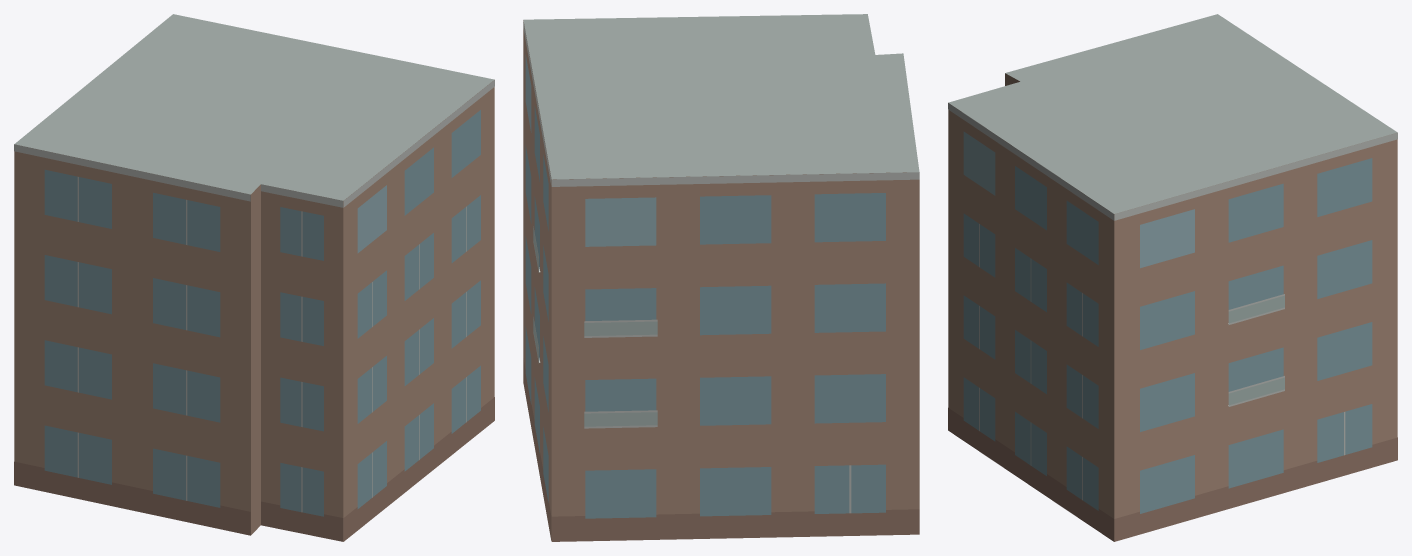
File: survey-upis-32914444.glb
The picture shows the model from 3 angles, left to right: view 1: azimuth 30°, elevation 25°; view 2: azimuth 150°, elevation 25°; view 3: azimuth 270°, elevation 25°; orthographic projection. The views are drawn at different scales.
Visible parts, largest first — view 1: survey-upis-32914444.tmp; view 2: survey-upis-32914444.tmp; view 3: survey-upis-32914444.tmp.
Part boxes in pixels (x1,y1,x2,y2): survey-upis-32914444.tmp: [14, 14, 494, 541]; survey-upis-32914444.tmp: [523, 14, 919, 541]; survey-upis-32914444.tmp: [948, 14, 1397, 541].
Bounding box in the file's own units: 15.41 × 11.76 × 14.63.
